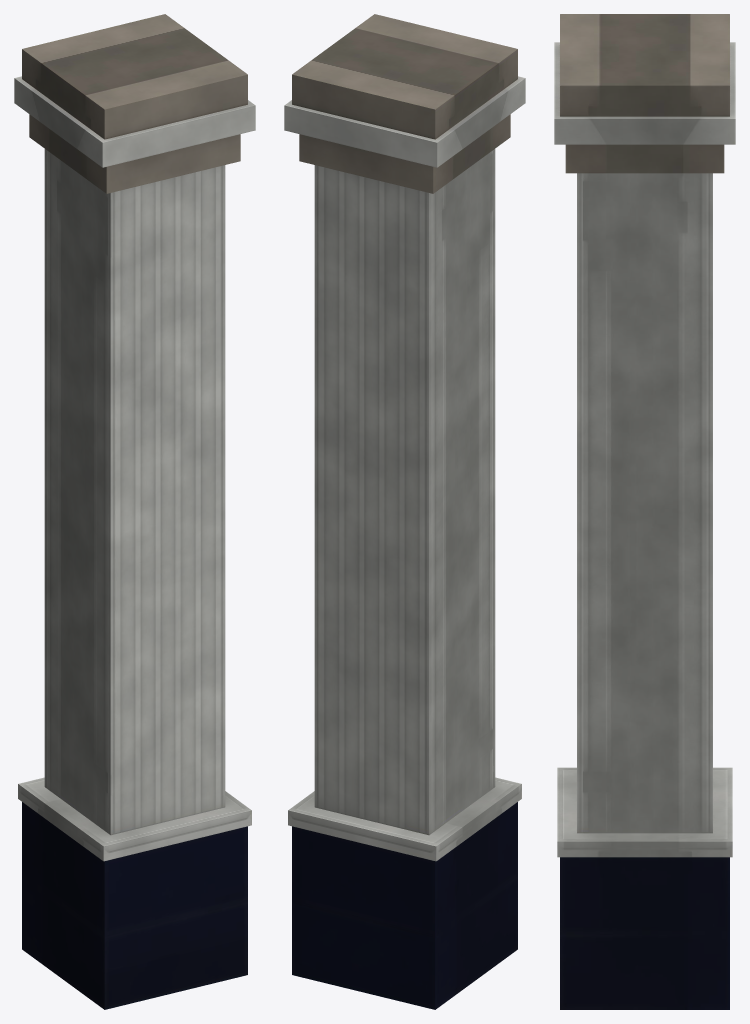
Rendered from charter_pillar.glb.
The picture shows the model from 3 angles, left to right: view 1: azimuth 30°, elevation 25°; view 2: azimuth 150°, elevation 25°; view 3: azimuth 270°, elevation 25°; orthographic projection. The views are drawn at different scales.
Visible parts, largest first — view 1: charter_pillar; view 2: charter_pillar; view 3: charter_pillar.
Boxes of the visible parts, x1=… form: charter_pillar: x1=14, y1=14, x2=255, y2=1009; charter_pillar: x1=284, y1=14, x2=525, y2=1009; charter_pillar: x1=554, y1=14, x2=735, y2=1009.
Size of the model in its own units: 0.64 by 3.6 by 0.64.
1 material, 1 textured.
